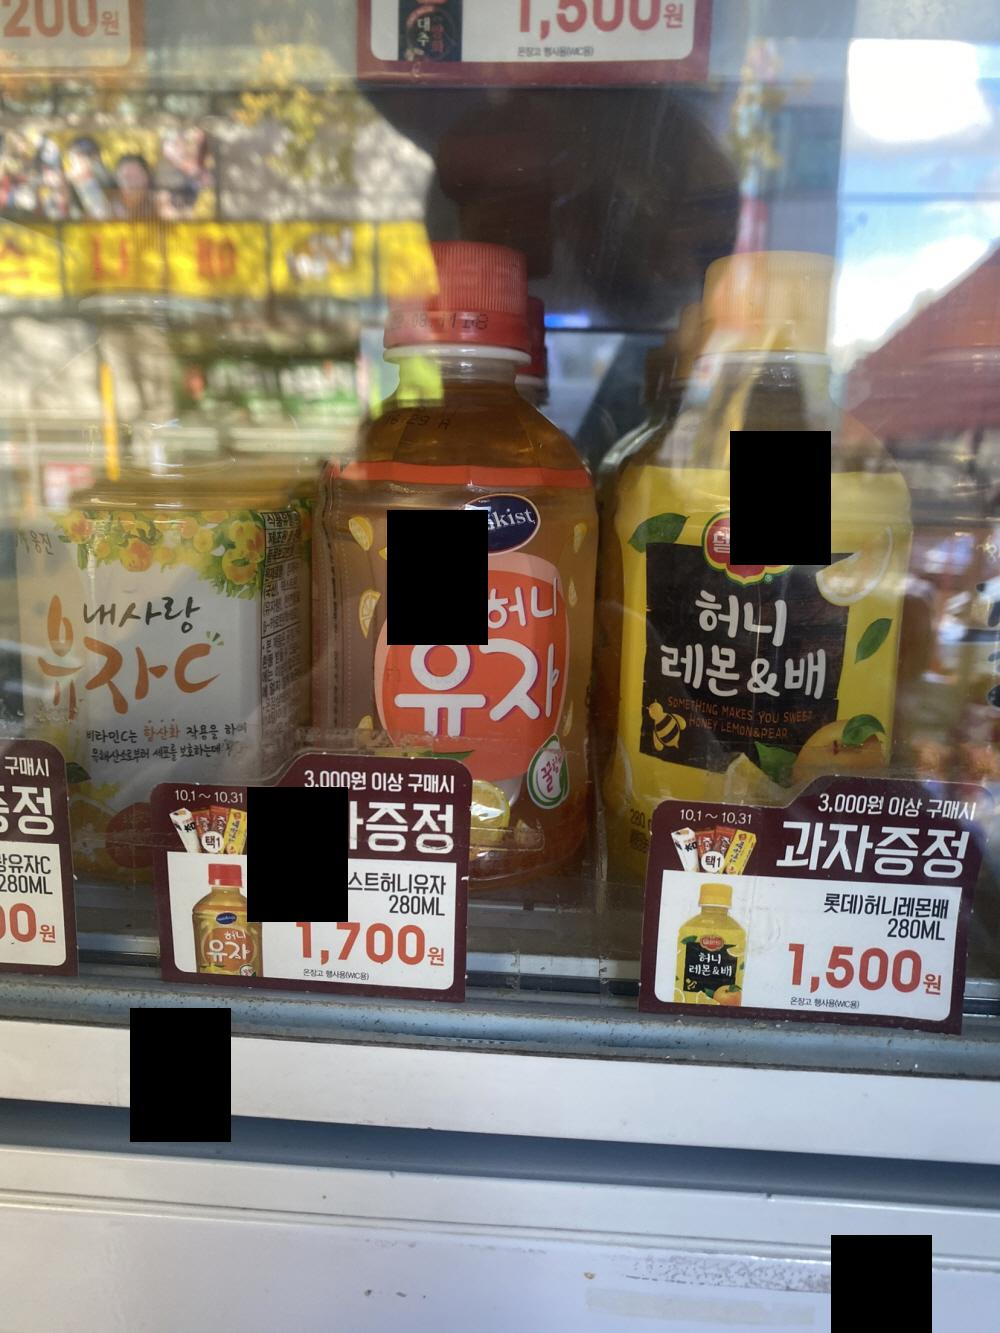honeyyuja: (282, 251, 603, 782)
